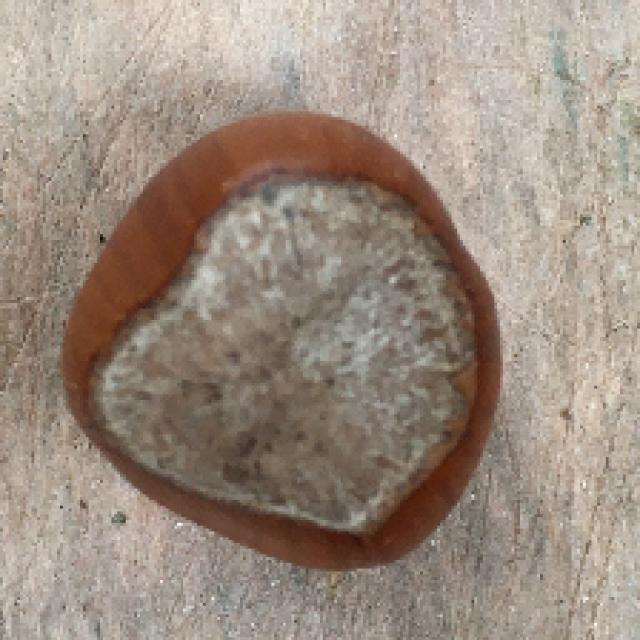qualityHazelnut: (59, 107, 503, 575)
